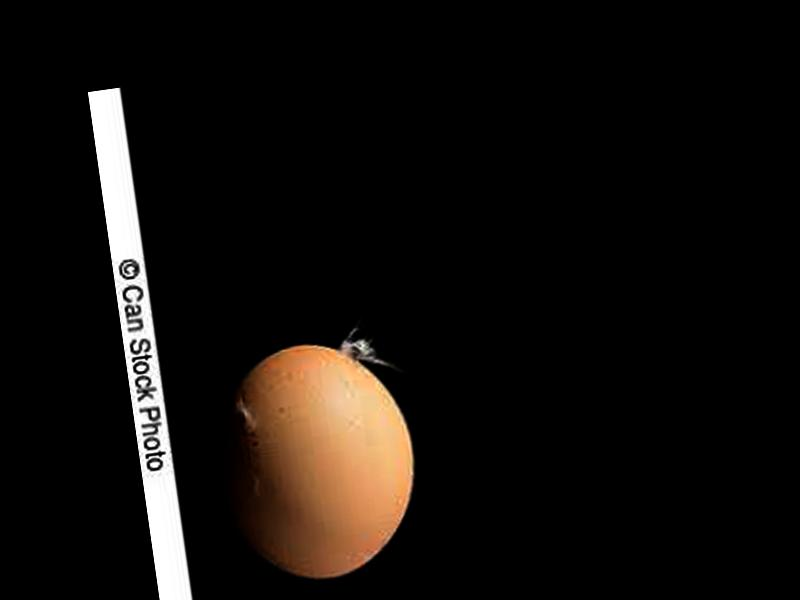Eggs: (202, 331, 427, 592)
